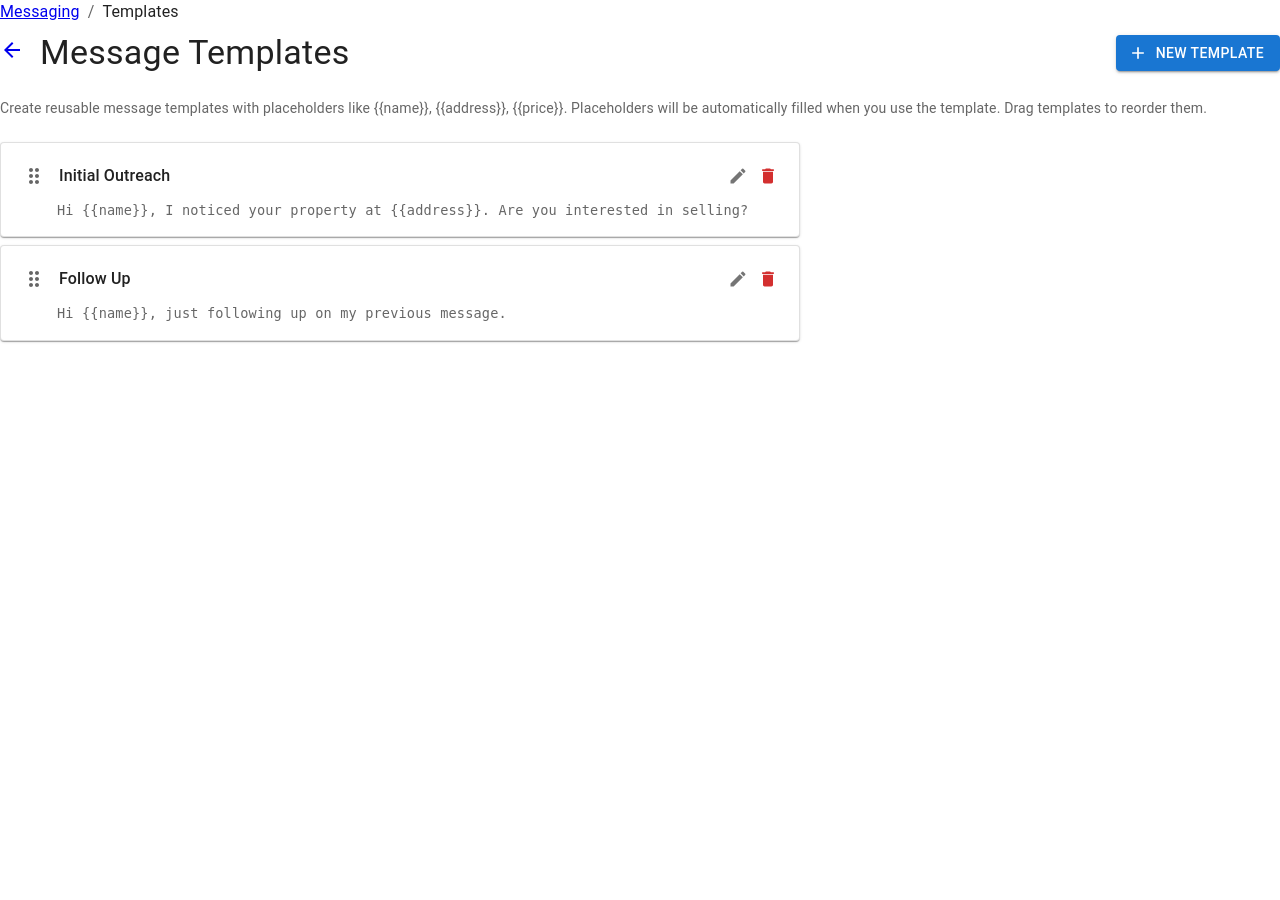
Test: TemplatesPage › create template › should open create dialog when New Template button is clicked
Click the button "New Template" at [1198, 53], box [1116, 35, 1279, 71]
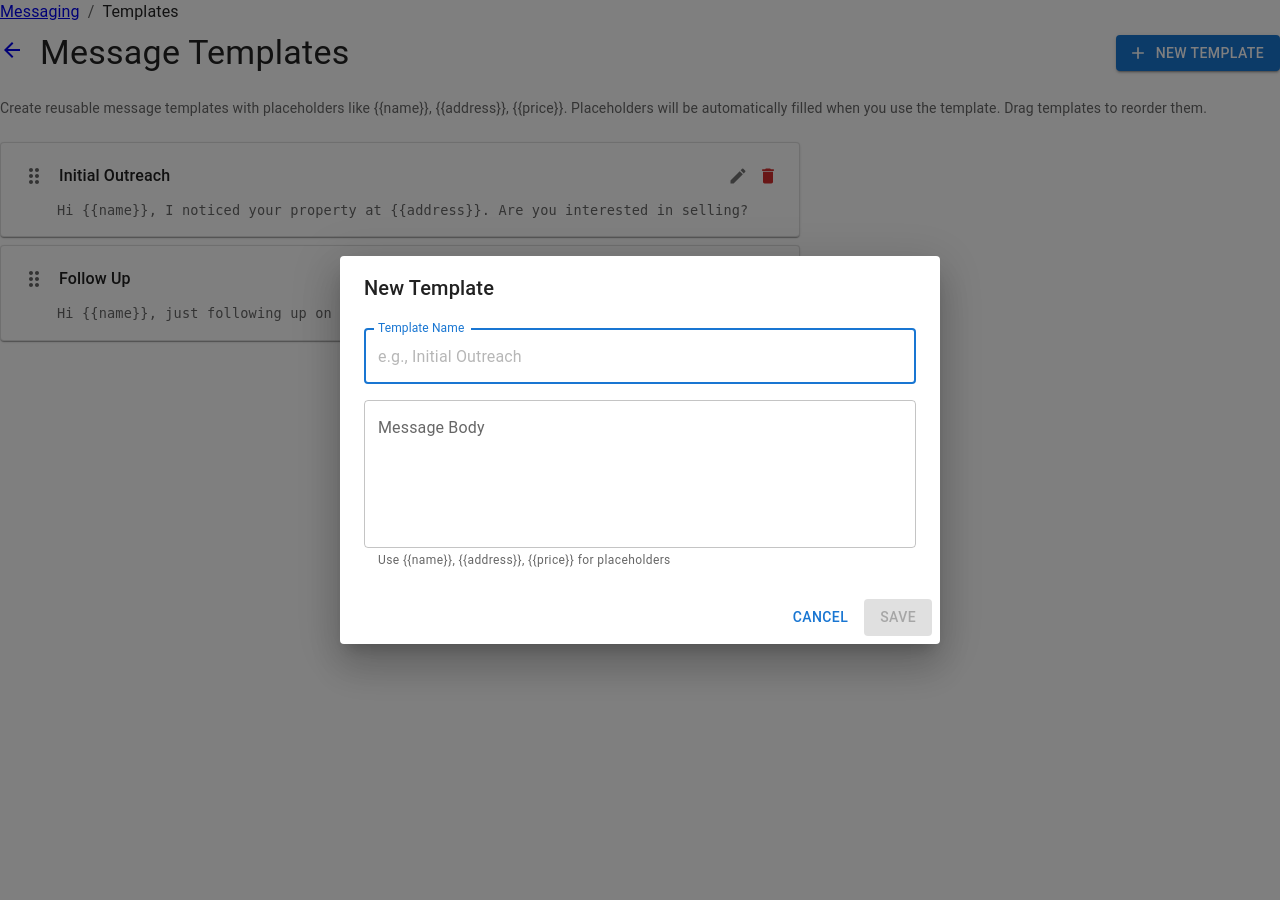
Check: the dialog is shown, box [340, 256, 940, 644]
Check: the dialog shows "New Template", box [364, 276, 494, 300]
